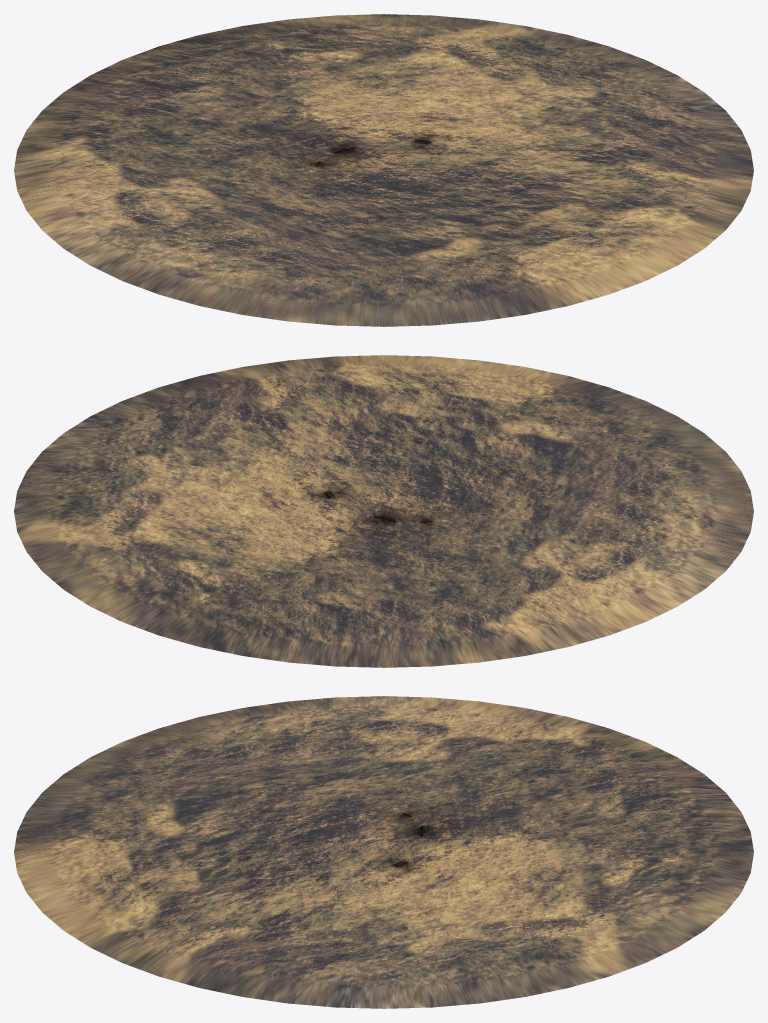
Rendered from floor.fbx.
3 renders of one model, top to bottom at view 1: azimuth 30°, elevation 25°; view 2: azimuth 150°, elevation 25°; view 3: azimuth 270°, elevation 25°, orthographic.
Parts seen in each view (by area): view 1: floor; view 2: floor; view 3: floor.
Part boxes in pixels (<box>): floor: <box>14,14,753,326</box>; floor: <box>14,355,753,667</box>; floor: <box>14,696,753,1008</box>.
Bounding box in the file's own units: 46.79 × 0.7721 × 46.79.
1 material, 1 textured.
